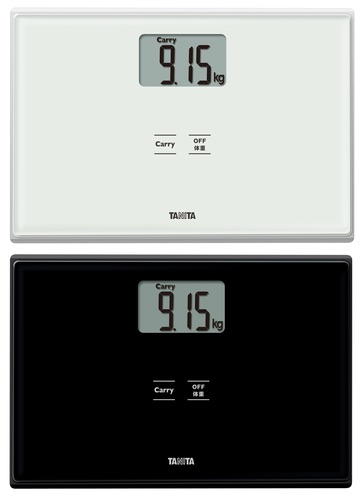LCD: (137, 279, 227, 336), (137, 33, 228, 85)
